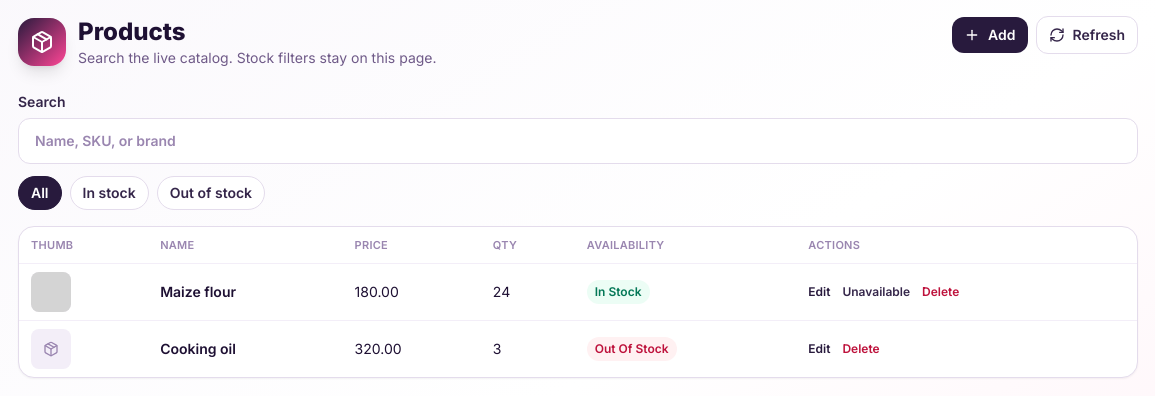
CatalogProducts page › filters availability on the client
Click the button "Out of stock" at (211, 193), box [157, 176, 265, 210]
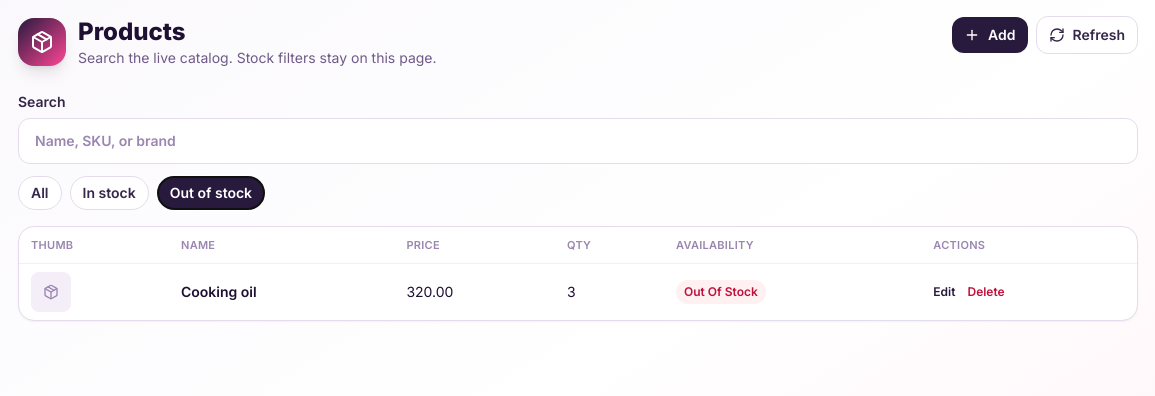
Expected: the text "Cooking oil" is shown, [169, 264, 394, 320]
Result: the text "Maize flour" is not shown
